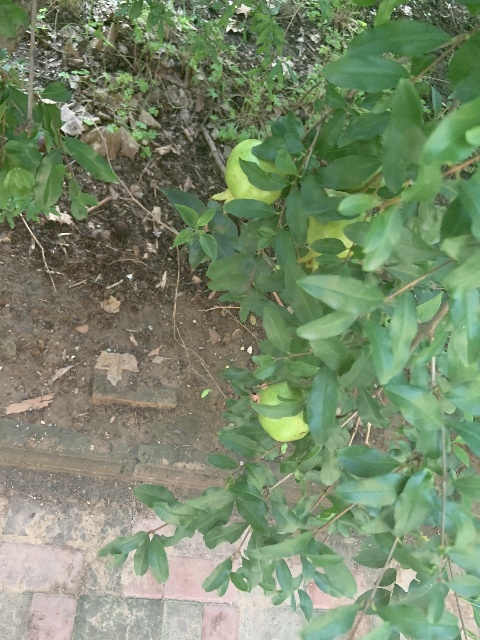mid-growth: (208, 138, 289, 214), (296, 211, 371, 273), (257, 380, 309, 442)
